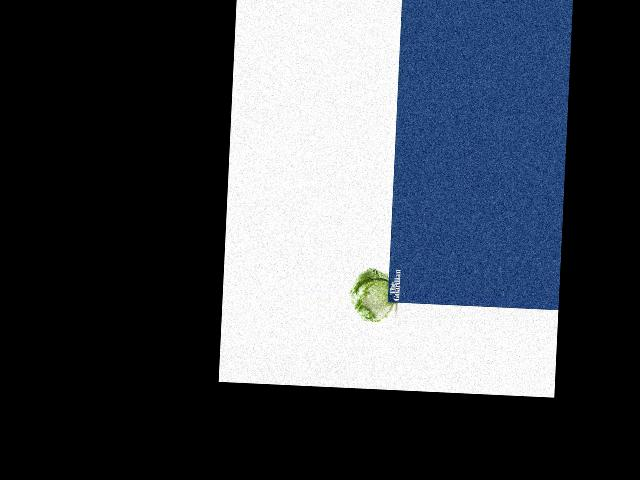lettuce: (345, 268, 395, 322)
